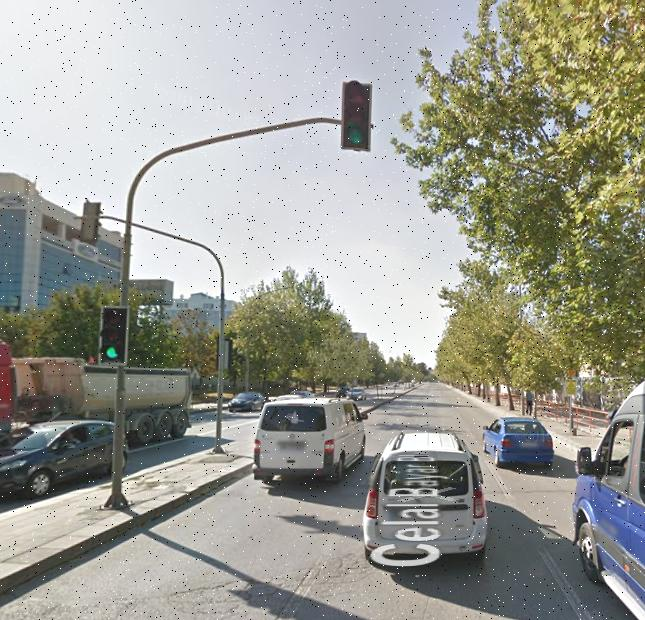greenlight: (340, 80, 368, 149), (101, 306, 124, 360)
